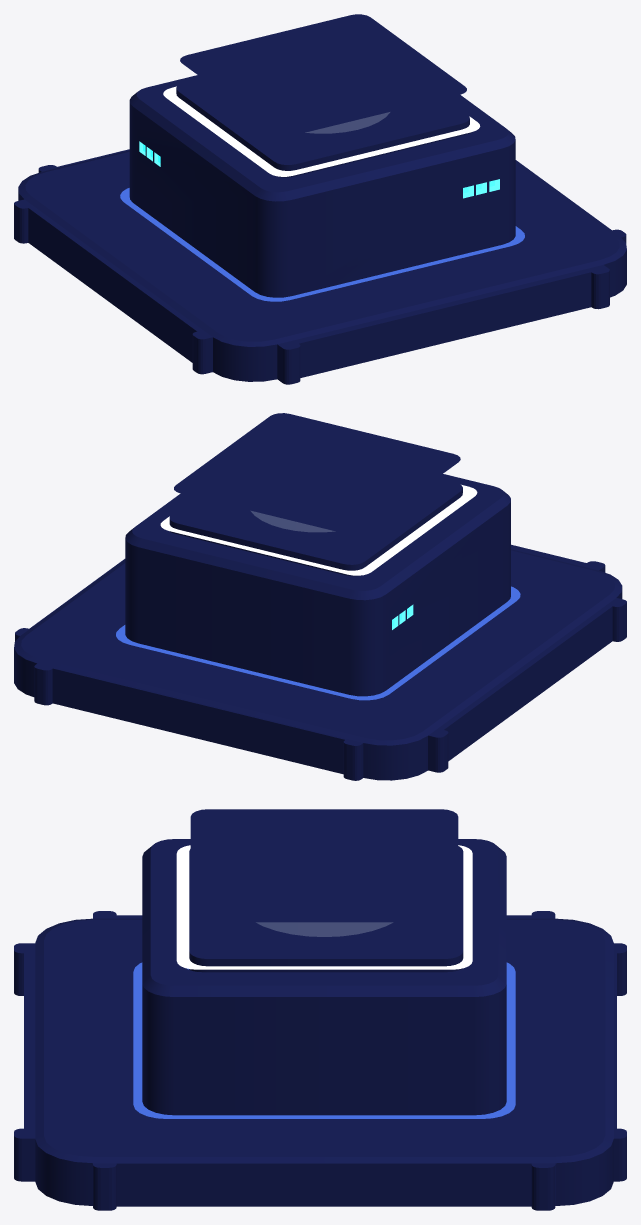
File: City_experiment_2.glb
3 views of the same model, one above another, from view 1: azimuth 30°, elevation 25°; view 2: azimuth 150°, elevation 25°; view 3: azimuth 270°, elevation 25° (orthographic). The views are drawn at different scales.
Parts seen in each view (by area): view 1: Main_platform.001, Main_platform, Platform1, Cube.001, Main_platform.005, Cube.003, Platform1.002, Main_platform.007, Main_platform.008, Main_platform.002; view 2: Main_platform.001, Main_platform, Platform1, Cube.002, Main_platform.005, Cube.003, Platform1.002, Main_platform.008, Main_platform.007, Cube.001, Main_platform.002; view 3: Main_platform, Main_platform.001, Platform1, Cube.004, Main_platform.005, Main_platform.008, Main_platform.007, Cube.001, Platform1.002, Cube.002, Main_platform.002, Cube.003.
Part boxes in pixels (x1=…): Main_platform.001: x1=129, y1=75, x2=515, y2=297; Main_platform: x1=18, y1=150, x2=626, y2=381; Platform1: x1=180, y1=14, x2=466, y2=135; Cube.001: x1=277, y1=265, x2=609, y2=384; Main_platform.005: x1=176, y1=78, x2=469, y2=177; Cube.003: x1=14, y1=199, x2=212, y2=374; Platform1.002: x1=183, y1=14, x2=466, y2=94; Main_platform.007: x1=163, y1=86, x2=480, y2=176; Main_platform.008: x1=120, y1=188, x2=524, y2=301; Main_platform.002: x1=307, y1=112, x2=389, y2=132; Main_platform.001: x1=125, y1=474, x2=510, y2=696; Main_platform: x1=14, y1=549, x2=622, y2=780; Platform1: x1=174, y1=413, x2=460, y2=534; Cube.002: x1=34, y1=663, x2=363, y2=780; Main_platform.005: x1=169, y1=478, x2=462, y2=576; Cube.003: x1=428, y1=598, x2=626, y2=772; Platform1.002: x1=174, y1=414, x2=347, y2=532; Main_platform.008: x1=116, y1=586, x2=520, y2=700; Main_platform.007: x1=160, y1=484, x2=477, y2=575; Cube.001: x1=511, y1=544, x2=605, y2=572; Main_platform.002: x1=251, y1=511, x2=331, y2=531; Main_platform: x1=35, y1=918, x2=613, y2=1205; Main_platform.001: x1=142, y1=839, x2=506, y2=1115; Platform1: x1=190, y1=809, x2=458, y2=922; Cube.004: x1=93, y1=1163, x2=555, y2=1210; Main_platform.005: x1=189, y1=846, x2=463, y2=972; Main_platform.008: x1=133, y1=962, x2=515, y2=1118; Main_platform.007: x1=176, y1=845, x2=472, y2=969; Cube.001: x1=14, y1=943, x2=35, y2=1181; Platform1.002: x1=191, y1=815, x2=456, y2=922; Cube.002: x1=614, y1=943, x2=626, y2=1181; Main_platform.002: x1=258, y1=923, x2=390, y2=936; Cube.003: x1=93, y1=911, x2=555, y2=918.
Size of what is drawn, in the model's own units: 8.3 by 3.3 by 8.37.
